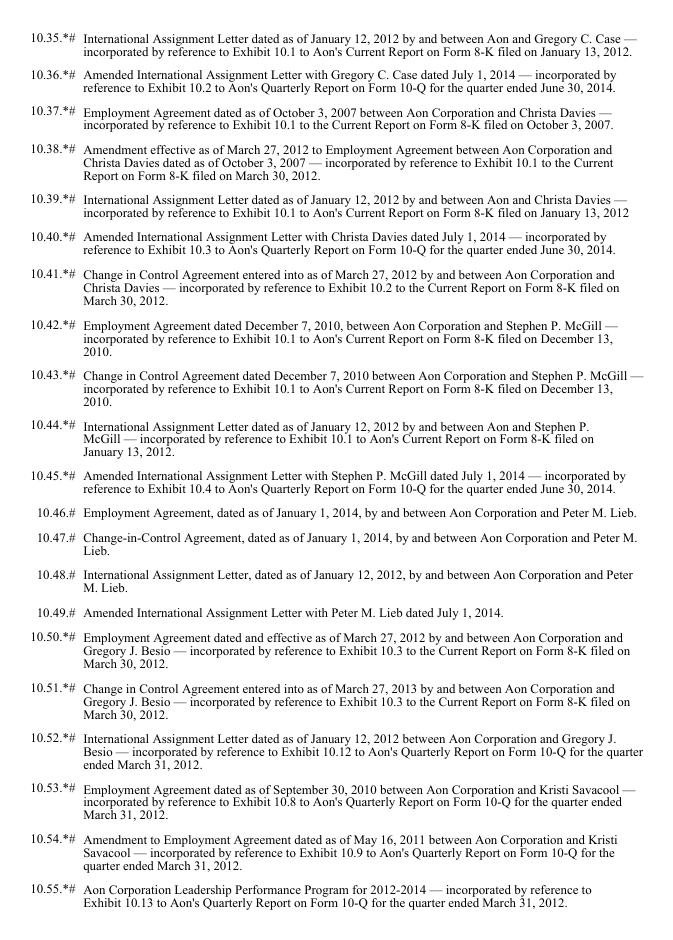table: (29, 29, 642, 909)
table column: (78, 29, 642, 909), (29, 29, 78, 909)
table row: (29, 135, 642, 186), (29, 260, 642, 311), (29, 361, 642, 412), (29, 623, 642, 674), (29, 724, 642, 775), (29, 825, 642, 876), (29, 311, 642, 361), (29, 412, 642, 462), (29, 674, 642, 724), (29, 775, 642, 825), (29, 561, 642, 599), (29, 98, 642, 135), (29, 186, 642, 223), (29, 223, 642, 260), (29, 462, 642, 499), (29, 524, 642, 561), (29, 62, 642, 98), (29, 29, 642, 62), (29, 876, 642, 909), (29, 499, 642, 524), (29, 599, 642, 623)
